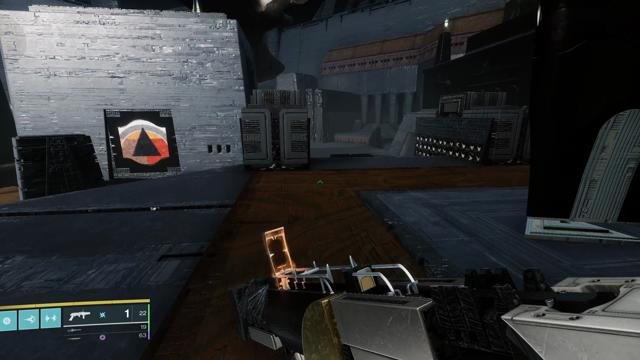pyramid: (118, 118, 170, 165)
